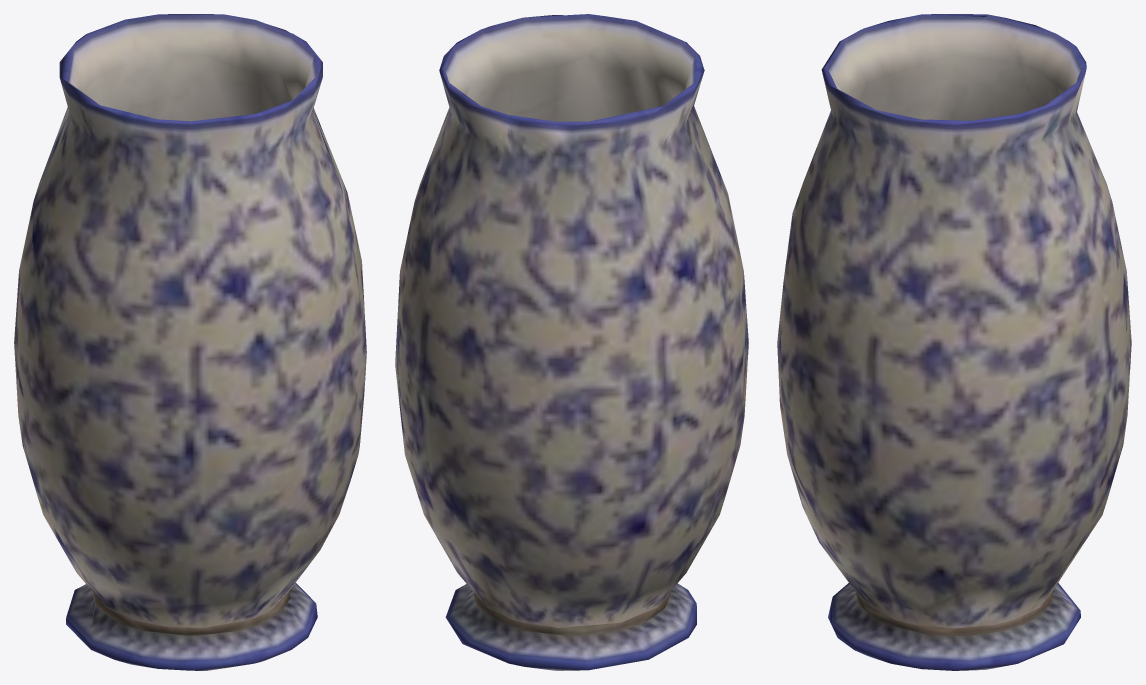
The model's file is antique_ceramic_vase_01.gltf.
The picture shows the model from 3 angles, left to right: view 1: azimuth 30°, elevation 25°; view 2: azimuth 150°, elevation 25°; view 3: azimuth 270°, elevation 25°; orthographic projection.
Visible parts, largest first — view 1: antique_ceramic_vase_01; view 2: antique_ceramic_vase_01; view 3: antique_ceramic_vase_01.
Boxes of the visible parts, x1,y1,x2,y2 form: antique_ceramic_vase_01: [14, 14, 366, 670]; antique_ceramic_vase_01: [395, 14, 748, 670]; antique_ceramic_vase_01: [777, 14, 1131, 670].
Size of the model in its own units: 0.2534 by 0.4396 by 0.255.
1 material, 1 textured.
